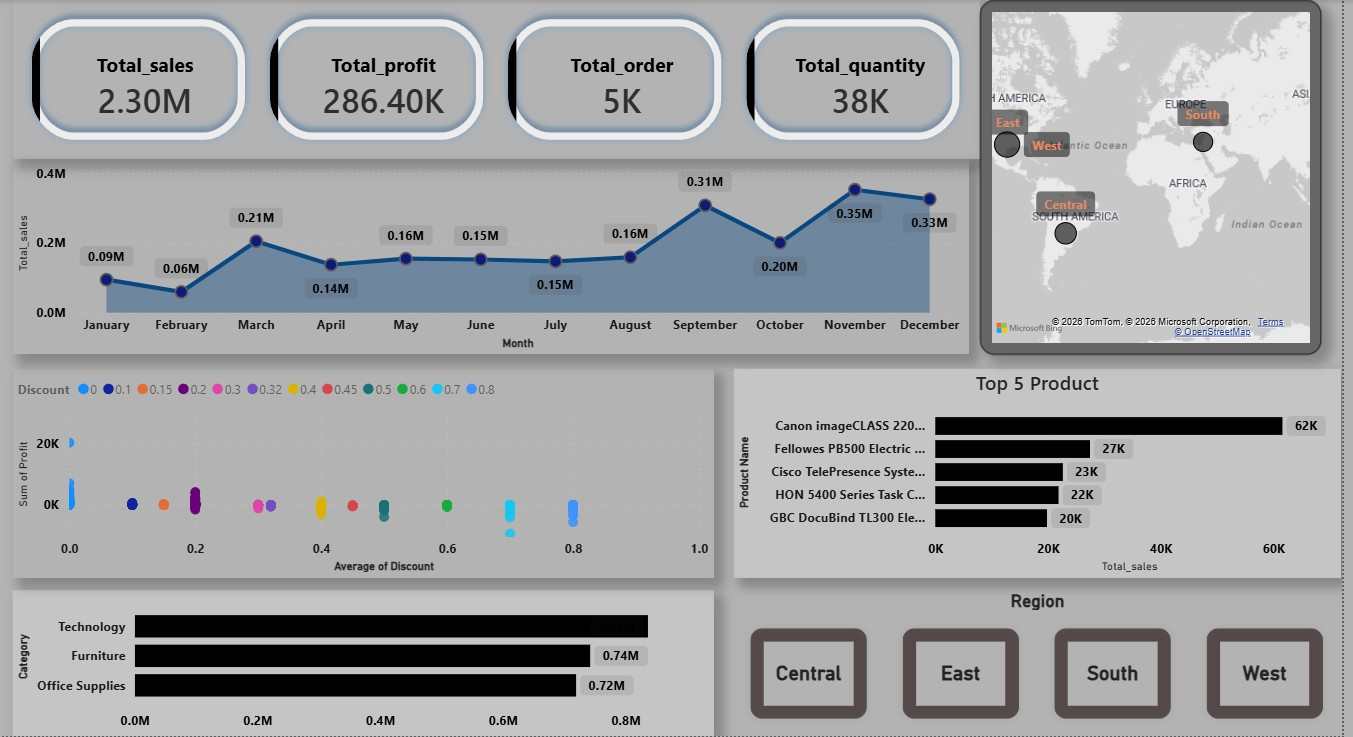

What the dashboard file says about the page in this screenshot:
{"tool":"powerbi","page":{"name":"Page 1","canvas":[1289,707],"ordinal":0},"visuals":[{"type":"cardVisual","fields":{"Data":["Sample - Superstore.Total_sales","Sample - Superstore.Total_profit","Sample - Superstore.Total_order","Sample - Superstore.Total_quantity"]},"box":[12,0,929.4,152.5],"z":0},{"type":"lineChart","fields":{"Category":["Sample - Superstore.Order Date.Variation.Date Hierarchy.Month"],"Y":["Sample - Superstore.Total_sales"]},"box":[12.3,152.3,918,188],"z":1000},{"type":"clusteredBarChart","title":"Top 5 Product ","fields":{"Category":["Sample - Superstore.Product Name"],"Y":["Sample - Superstore.Total_sales"]},"box":[704.8,354.2,583.6,200.5],"z":2000},{"type":"clusteredBarChart","fields":{"Category":["Sample - Superstore.Category"],"Y":["Sample - Superstore.Total_sales"]},"box":[12,566.8,673.6,144.1],"z":3000},{"type":"scatterChart","fields":{"X":["Avg(Sample - Superstore.Discount)"],"Y":["Sum(Sample - Superstore.Profit)"],"Series":["Sample - Superstore.Discount"],"Category":["Sample - Superstore.Product Name"]},"box":[12,354.2,673.6,200.5],"z":4000},{"type":"map","fields":{"Category":["Sample - Superstore.Region"],"Size":["Sample - Superstore.Total_sales"]},"box":[941.4,0,327.8,341],"z":5000},{"type":"advancedSlicerVisual","fields":{"Values":["Sample - Superstore.Region"]},"box":[704.8,566.8,583.6,140.5],"z":6000}]}

Visuals, with their boxes in screenshot pixels (x1, y1, x2, y2), scaled from the page's 1289x707 canvas onto the 1353x737 screenshot:
cardVisual - Sample - Superstore.Total_sales x Sample - Superstore.Total_profit: l=13, t=0, r=988, b=159
lineChart - Sample - Superstore.Order Date.Variation.Date Hierarchy.Month x Sample - Superstore.Total_sales: l=13, t=159, r=976, b=355
"Top 5 Product " clusteredBarChart: l=740, t=369, r=1352, b=578
clusteredBarChart - Sample - Superstore.Category x Sample - Superstore.Total_sales: l=13, t=591, r=720, b=736
scatterChart - Avg(Sample - Superstore.Discount) x Sum(Sample - Superstore.Profit): l=13, t=369, r=720, b=578
map - Sample - Superstore.Region x Sample - Superstore.Total_sales: l=988, t=0, r=1332, b=355
advancedSlicerVisual - Sample - Superstore.Region: l=740, t=591, r=1352, b=736
